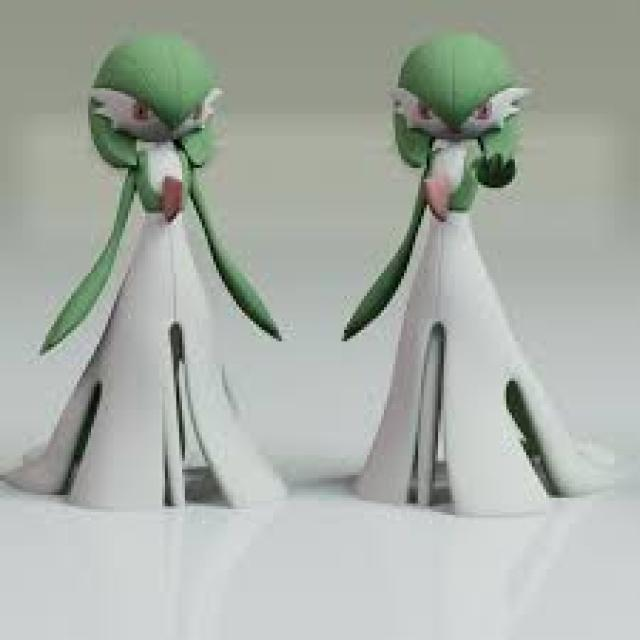gardevoir: (8, 28, 294, 525), (343, 38, 623, 522)
